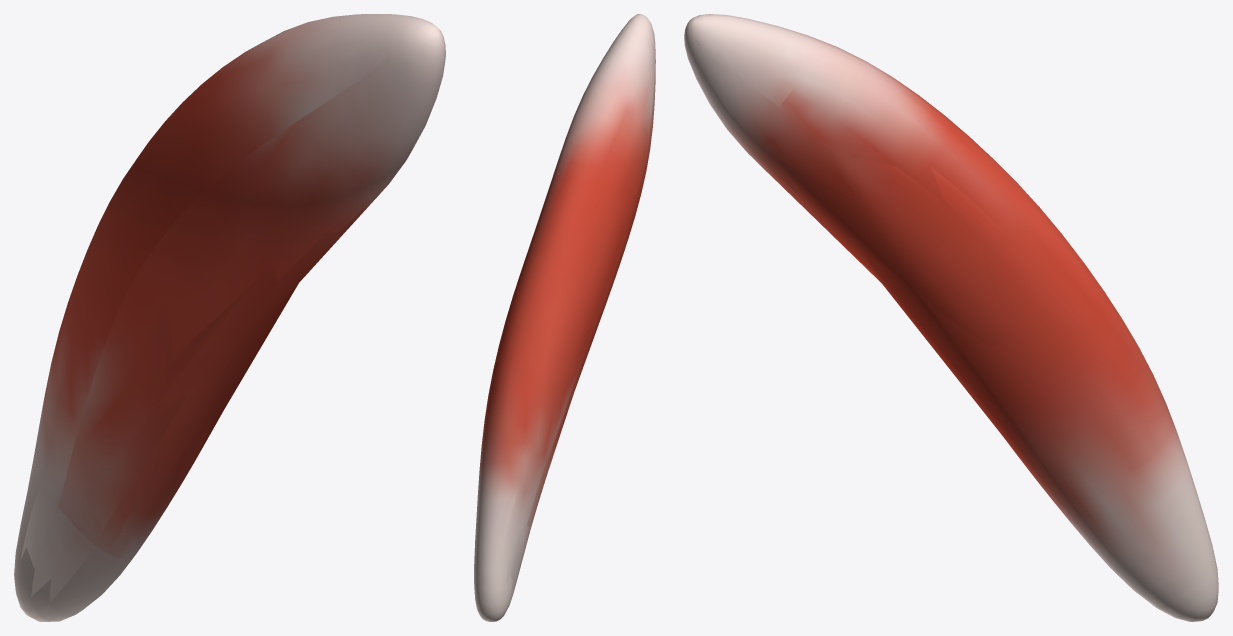
Rendered from R Triceps Brachii Medial Head.fbx.
3 renders of one model, left to right at view 1: azimuth 30°, elevation 25°; view 2: azimuth 150°, elevation 25°; view 3: azimuth 270°, elevation 25°, orthographic. The views are drawn at different scales.
Visible parts, largest first — view 1: R Triceps Brachii Medial Head, R Triceps Brachii Medial Head low; view 2: R Triceps Brachii Medial Head, R Triceps Brachii Medial Head low; view 3: R Triceps Brachii Medial Head, R Triceps Brachii Medial Head low.
Part boxes in pixels (x1,y1,x2,y2): R Triceps Brachii Medial Head: (14,14,445,621); R Triceps Brachii Medial Head low: (21,26,441,620); R Triceps Brachii Medial Head: (474,14,655,621); R Triceps Brachii Medial Head low: (485,38,654,598); R Triceps Brachii Medial Head: (684,14,1218,621); R Triceps Brachii Medial Head low: (686,22,1207,618).
Size of the model in its own units: 2.73 by 15.34 by 11.86.
